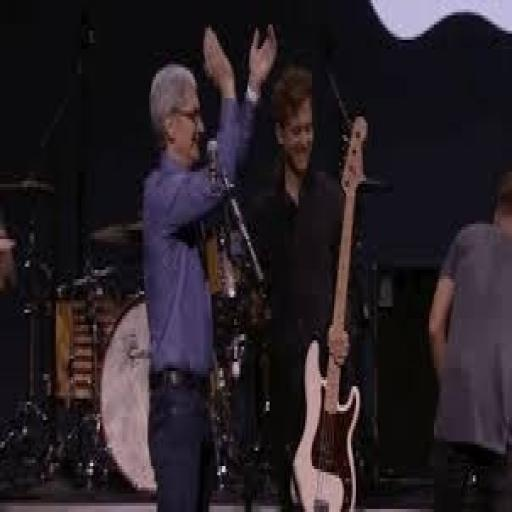clapping: (139, 18, 278, 509)
